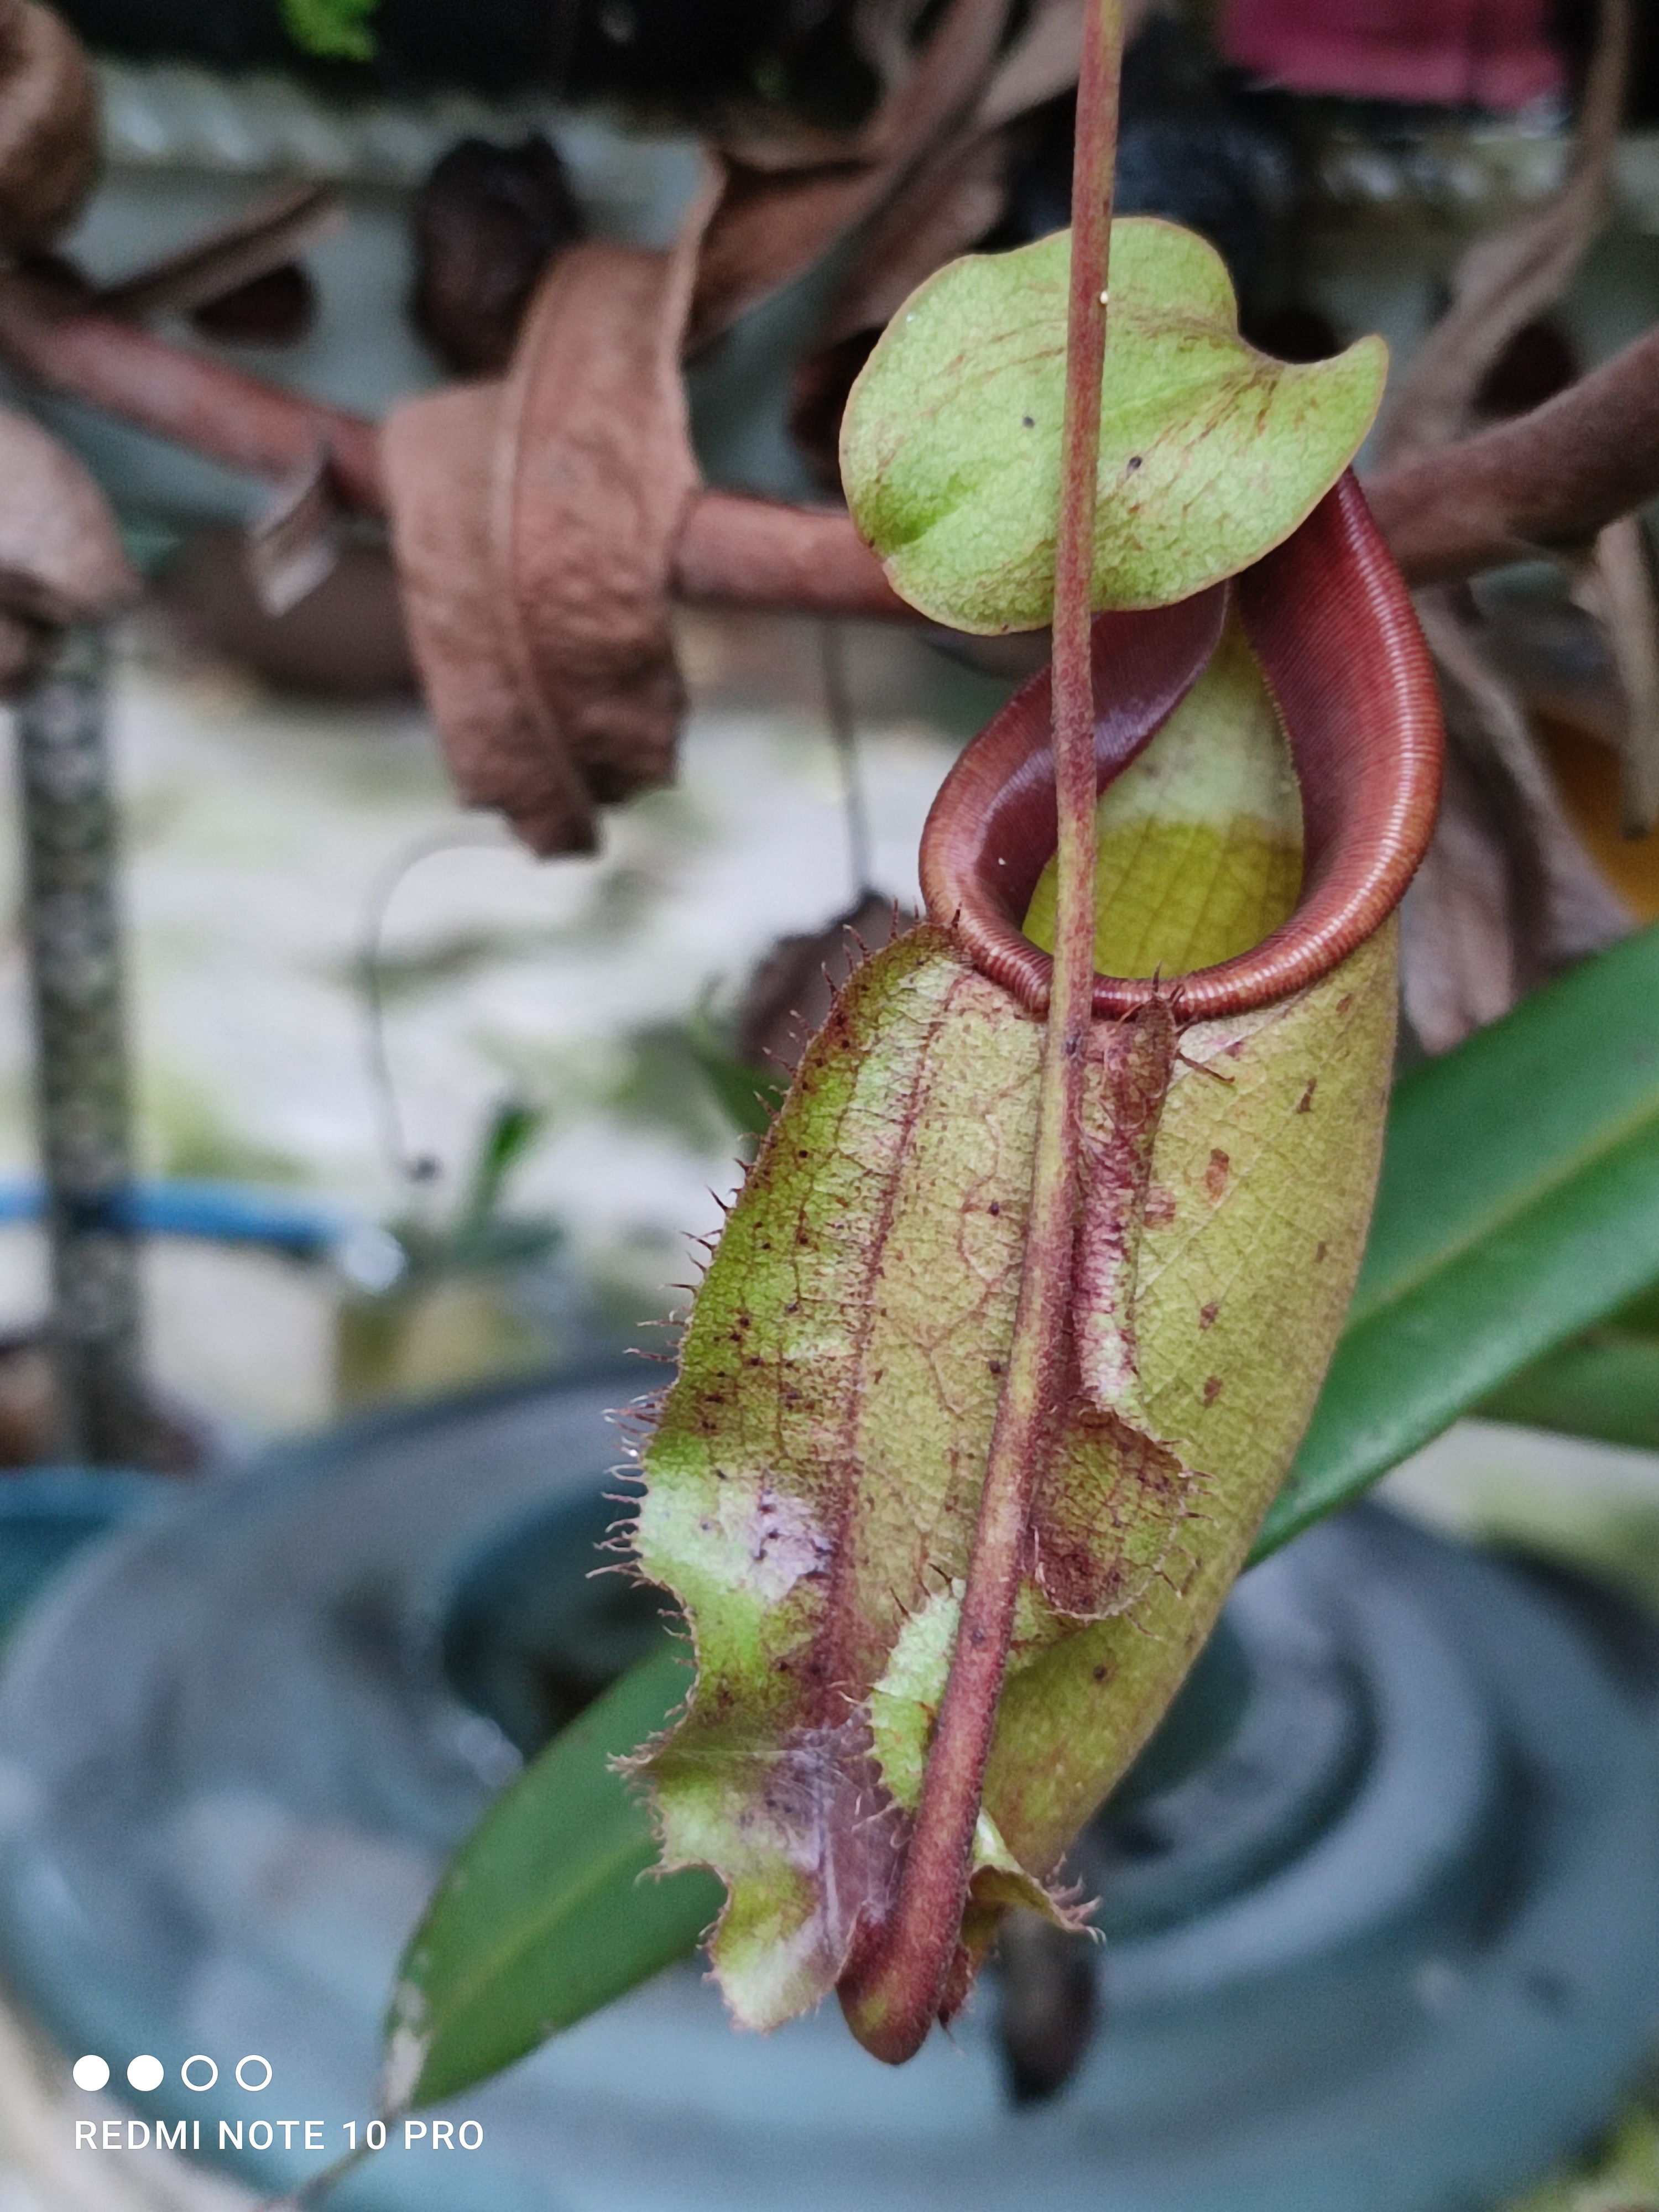Maxima: (563, 169, 1473, 2101)
